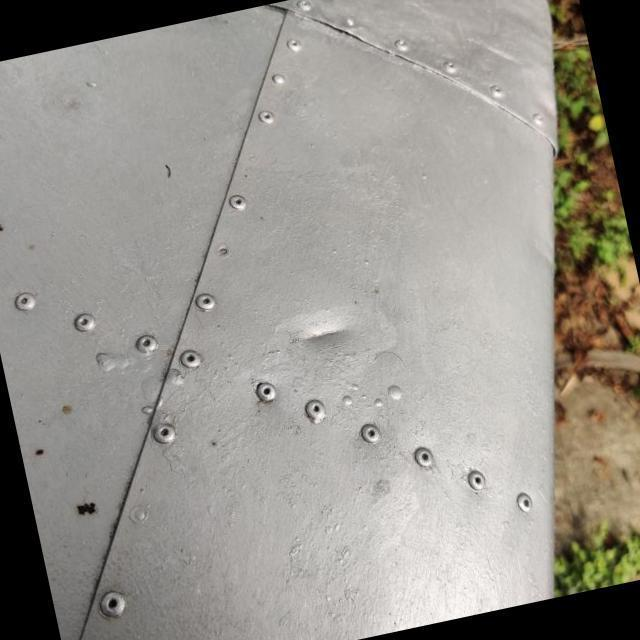Dent: (270, 278, 385, 388)
